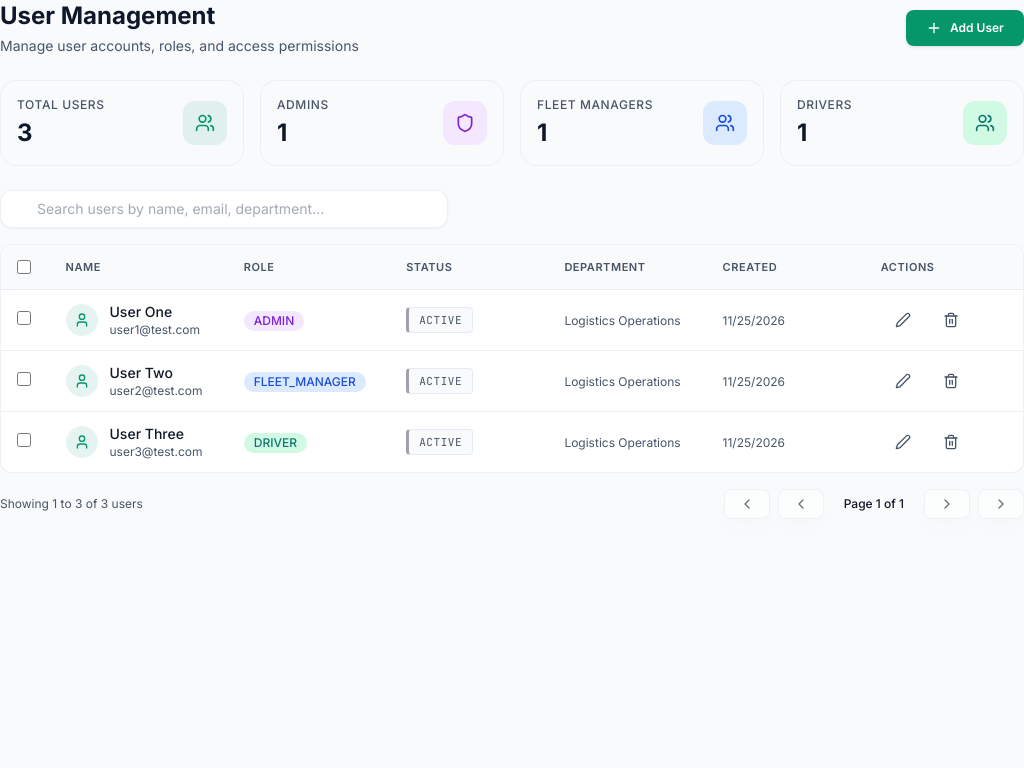
Test: UserManagementPage › Delete User Flow › shows delete confirmation modal
Expected: the text "User One" is shown, [110,303,172,320]
Click the button named "delete user".
click(951, 320)  # box [929,306,973,334]
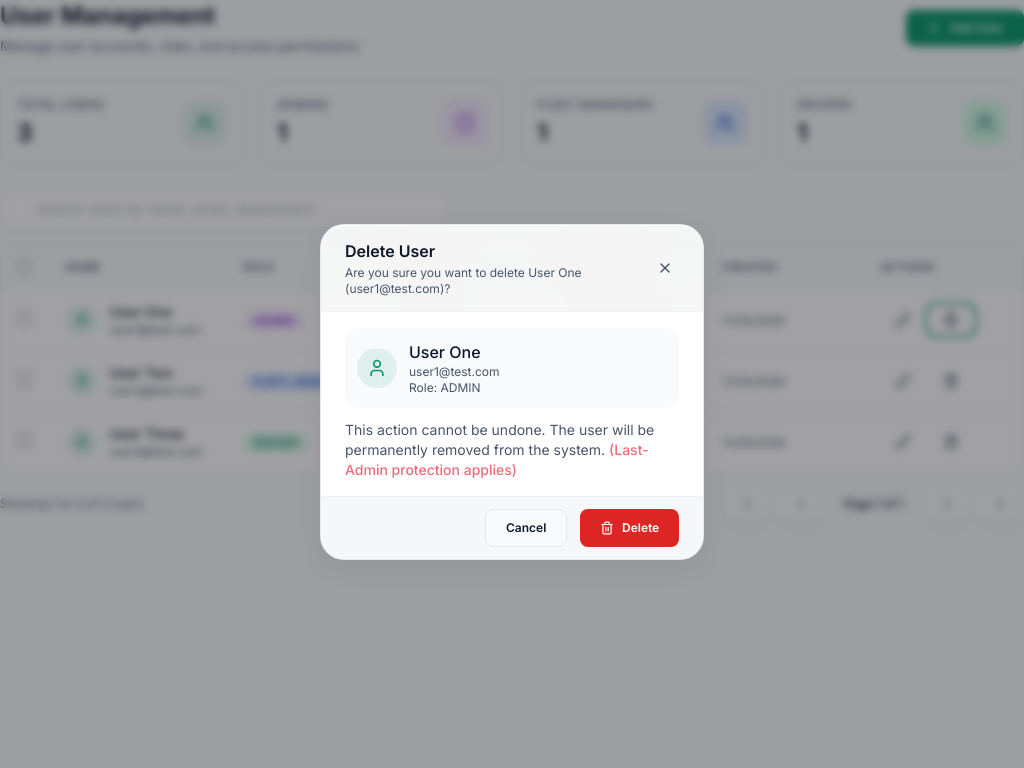
Expected: the heading "Delete User" is shown, [345,241,435,261]
Expected: the text "Are you sure you want to delete User One (user1@test.com)?" is shown, [345,265,582,296]
